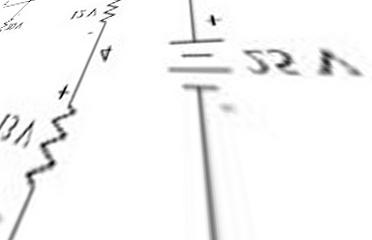resistor: (25, 95, 96, 184), (95, 0, 123, 22)
